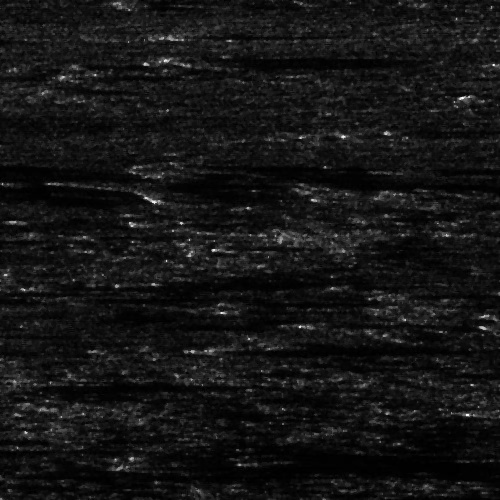object: (95, 489, 398, 500), (110, 339, 297, 354), (108, 157, 233, 178), (146, 52, 229, 67), (113, 456, 186, 473), (249, 318, 364, 327), (10, 291, 83, 300), (135, 31, 228, 38), (378, 166, 441, 175), (59, 71, 132, 78), (454, 404, 500, 413), (356, 291, 419, 296), (0, 380, 34, 389), (128, 220, 181, 225), (459, 321, 500, 326), (0, 474, 24, 479)
shadow: (171, 157, 500, 178), (150, 456, 484, 473), (204, 339, 443, 354), (247, 489, 500, 500), (188, 52, 367, 67), (46, 291, 314, 300), (0, 474, 401, 479), (0, 380, 215, 389), (307, 318, 456, 327), (0, 159, 45, 182), (182, 31, 315, 38), (96, 71, 226, 78), (410, 166, 500, 175), (388, 291, 488, 296), (155, 220, 249, 225), (242, 300, 385, 303), (0, 434, 25, 443), (0, 290, 12, 301), (480, 321, 500, 326)
